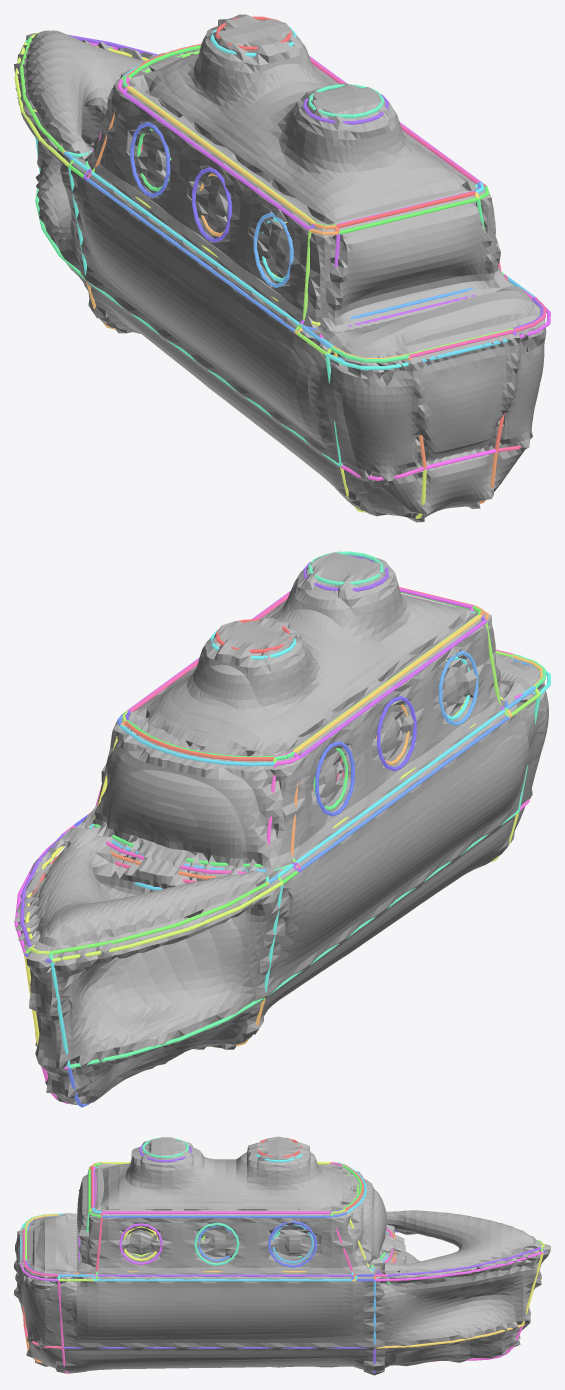
The model's file is onshape_boat.gltf.
The picture shows the model from 3 angles, top to bottom: view 1: azimuth 30°, elevation 25°; view 2: azimuth 150°, elevation 25°; view 3: azimuth 270°, elevation 25°; orthographic projection. The views are drawn at different scales.
Size of the model in its own units: 0.2706 by 0.4027 by 0.9028.
